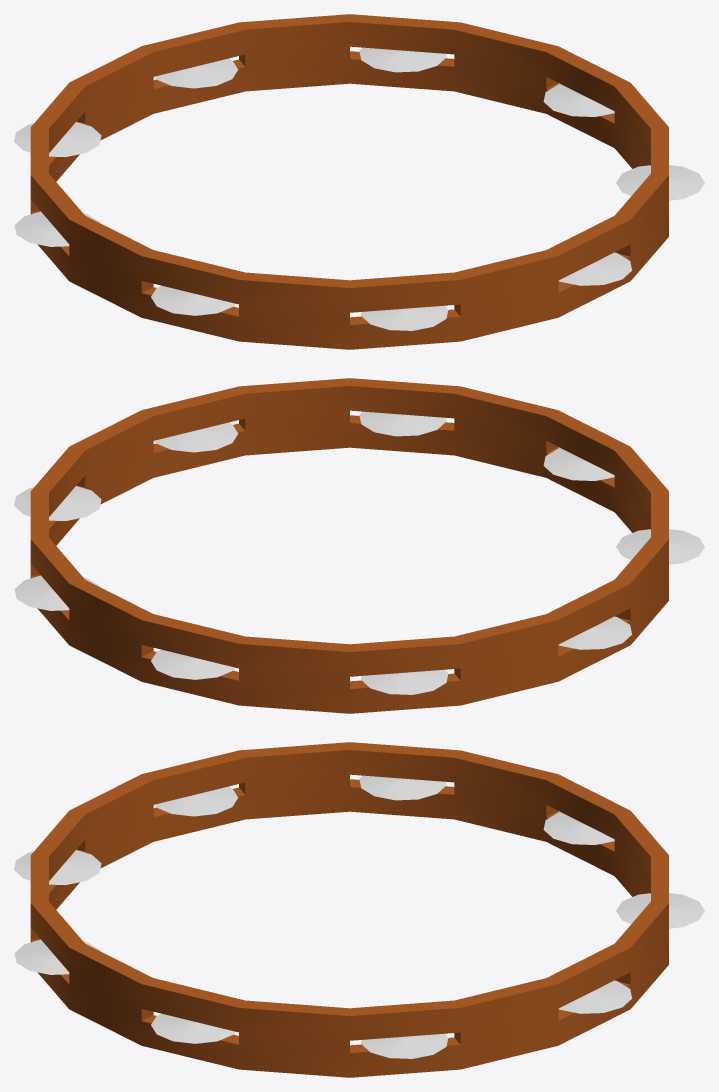
File: Tambourine.FBX
3 views of the same model, one above another, from view 1: azimuth 30°, elevation 25°; view 2: azimuth 150°, elevation 25°; view 3: azimuth 270°, elevation 25° (orthographic).
Visible parts, largest first — view 1: WoodenPart, Cymbals007, Cymbals, Cymbals002, Cymbals006, Cymbals003, Cymbals004, Cymbals008, Cymbals001, Cymbals005; view 2: WoodenPart, Cymbals004, Cymbals006, Cymbals008, Cymbals003, Cymbals, Cymbals001, Cymbals005, Cymbals007, Cymbals002; view 3: WoodenPart, Cymbals001, Cymbals003, Cymbals005, Cymbals, Cymbals006, Cymbals007, Cymbals002, Cymbals004, Cymbals008.
Part boxes in pixels (x1,y1,x2,y2): WoodenPart: [30, 14, 668, 349]; Cymbals007: [361, 305, 448, 330]; Cymbals: [616, 165, 704, 200]; Cymbals002: [359, 47, 446, 72]; Cymbals006: [151, 285, 235, 315]; Cymbals003: [154, 58, 238, 88]; Cymbals004: [14, 122, 101, 157]; Cymbals008: [558, 252, 631, 285]; Cymbals001: [543, 84, 614, 116]; Cymbals005: [14, 211, 100, 246]; WoodenPart: [30, 378, 668, 713]; Cymbals004: [361, 669, 448, 694]; Cymbals006: [616, 529, 704, 564]; Cymbals008: [359, 411, 446, 436]; Cymbals003: [151, 649, 235, 679]; Cymbals: [154, 422, 238, 452]; Cymbals001: [14, 486, 101, 521]; Cymbals005: [558, 616, 631, 649]; Cymbals007: [543, 448, 614, 480]; Cymbals002: [14, 575, 100, 610]; WoodenPart: [30, 742, 668, 1077]; Cymbals001: [361, 1033, 448, 1058]; Cymbals003: [616, 893, 704, 928]; Cymbals005: [359, 775, 446, 800]; Cymbals: [151, 1013, 235, 1043]; Cymbals006: [154, 786, 238, 816]; Cymbals007: [14, 850, 101, 885]; Cymbals002: [558, 980, 631, 1013]; Cymbals004: [543, 812, 614, 844]; Cymbals008: [14, 939, 100, 974].
Size of the model in its own units: 82.23 by 8.01 by 81.25.
